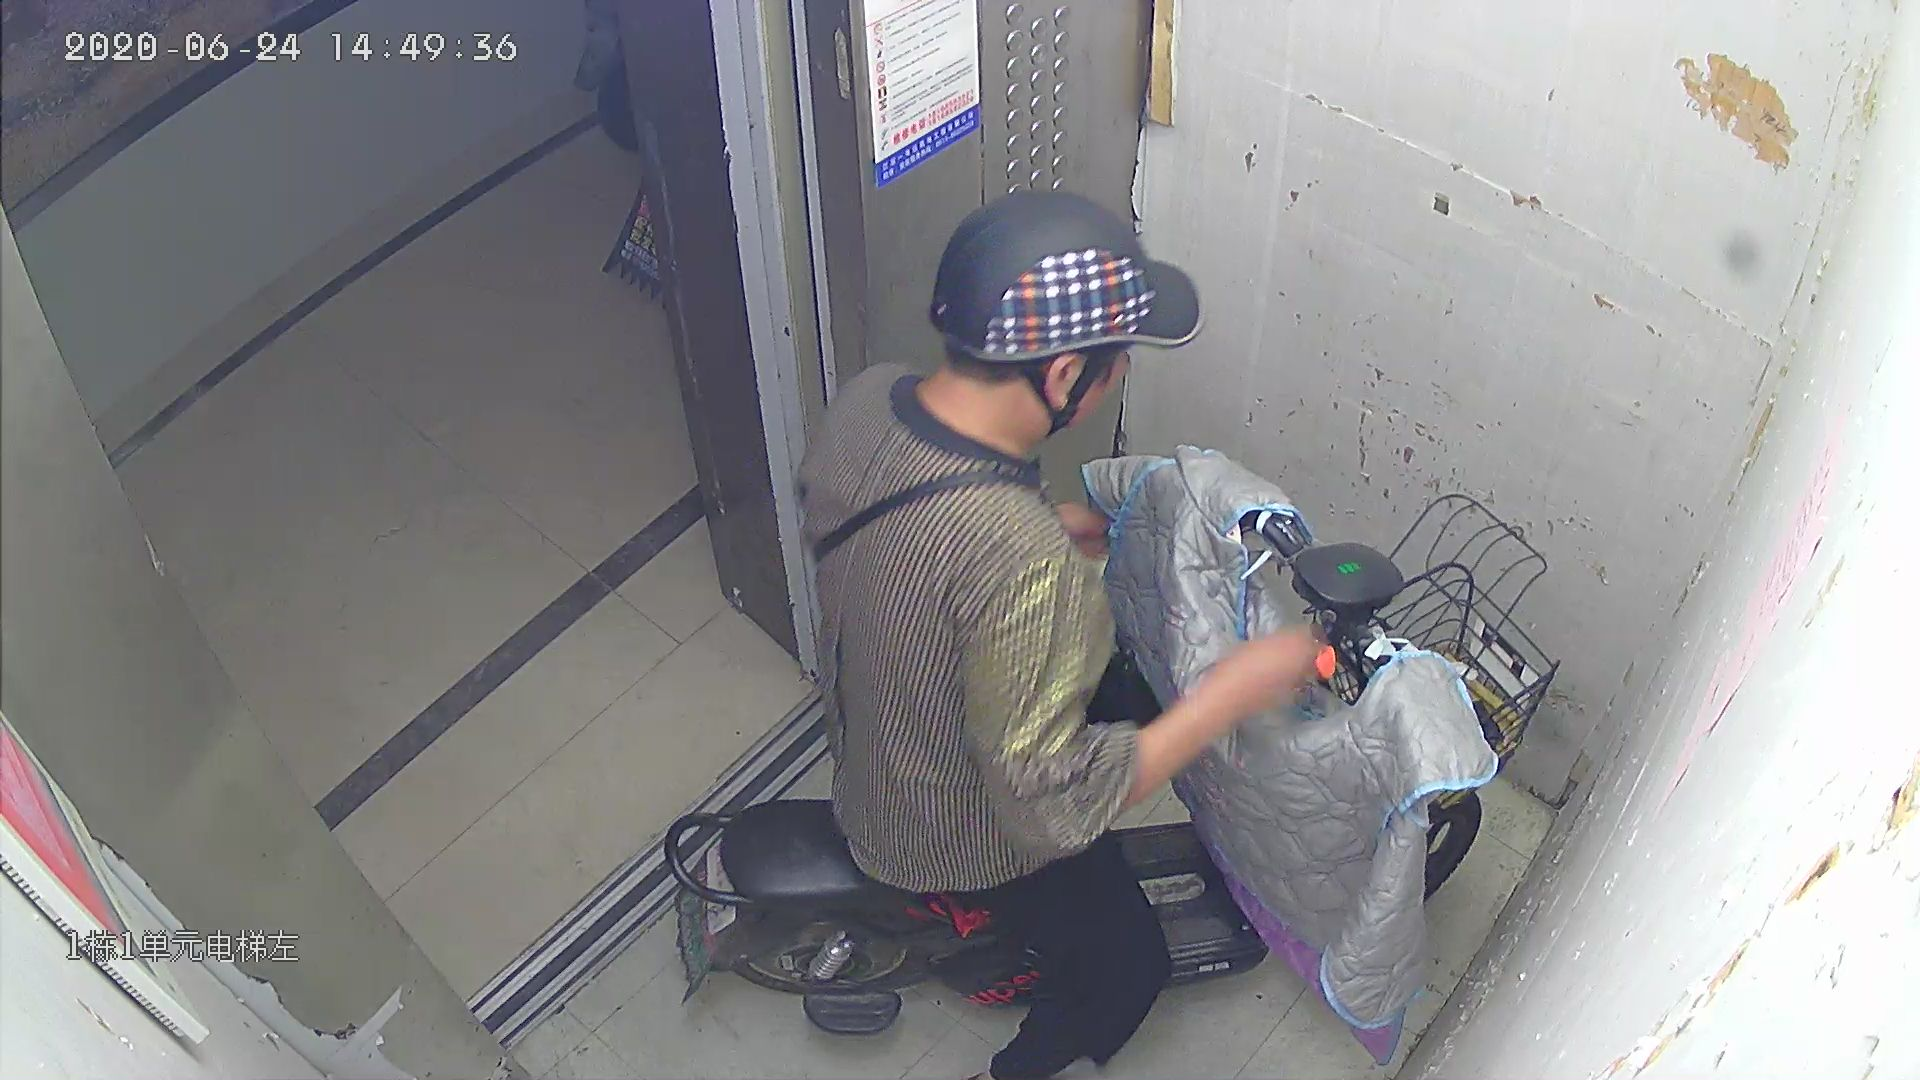Electric-bicycle: (666, 476, 1515, 976)
